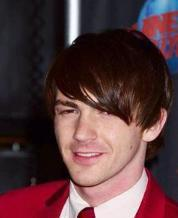face: (56, 100, 118, 163)
